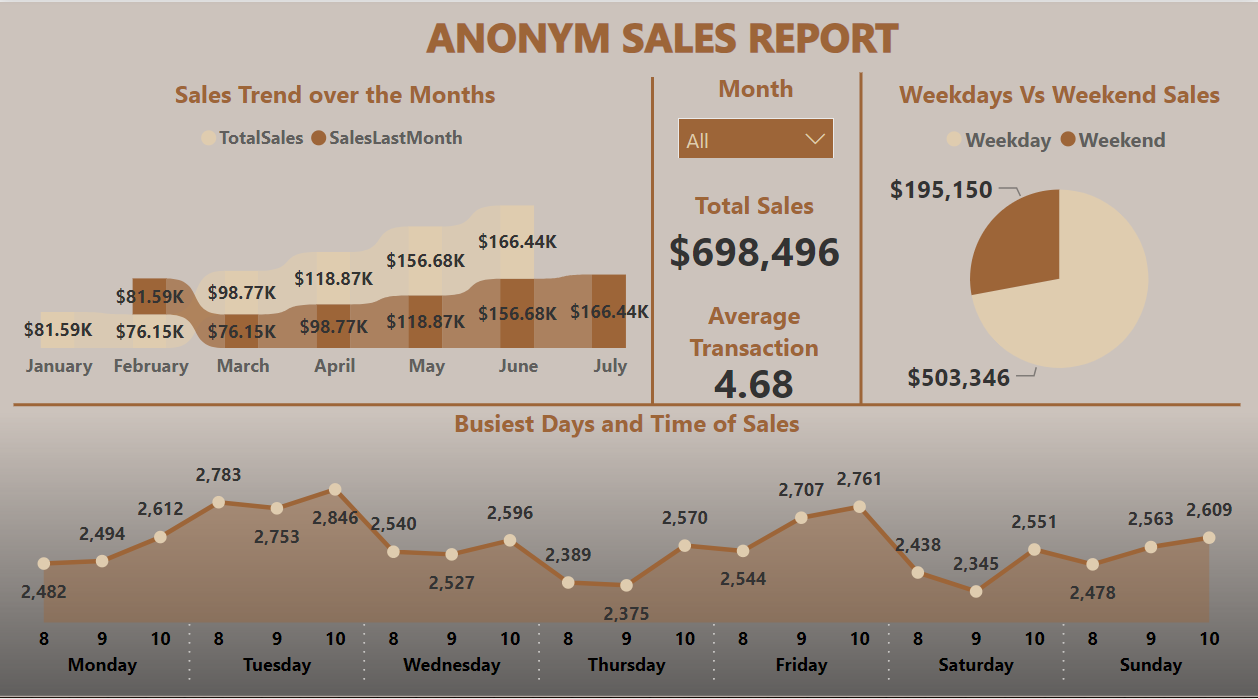

The dashboard page shown, as its layout file describes it:
{"tool":"powerbi","page":{"name":"Report 1","canvas":[841,464],"ordinal":0},"visuals":[{"type":"textbox","box":[99,0,690,58],"z":0},{"type":"ribbonChart","title":"Sales Trend over the Months","fields":{"Category":["Coffee Sales Data.transaction_date.Variation.Date Hierarchy.Month"],"Y":["Dax Measure.TotalSales","Dax Measure.SalesLastMonth"]},"box":[0,50,451,211],"z":1000},{"type":"card","title":"Average Transaction","fields":{"Values":["Dax Measure.Avg Transaction Value per Customer"]},"box":[428,197,154,73],"z":2000},{"type":"shape","box":[431,50,12,219],"z":3000},{"type":"shape","box":[570,47,12,222],"z":4000},{"type":"areaChart","title":"Busiest Days and Time of Sales","fields":{"Category":["Coffee Sales Data.Day Name","Coffee Sales Data.Hour"],"Y":["Dax Measure.TotalTransactions"]},"box":[11,269,818,195],"z":5000},{"type":"shape","box":[11,261,818,15],"z":6000},{"type":"pieChart","title":"Weekdays Vs Weekend Sales","fields":{"Y":["Dax Measure.TotalSales"],"Category":["Coffee Sales Data.Week_Name"]},"box":[576,50,265,219],"z":7000},{"type":"slicer","title":"Month","fields":{"Values":["Coffee Sales Data.Month Name"]},"box":[444,46,124,58],"z":8000},{"type":"card","title":"Total Sales","fields":{"Values":["Dax Measure.TotalSales"]},"box":[428,124,154,64],"z":9000}]}

Visuals, with their boxes in screenshot pixels (x1, y1, x2, y2), scaled from the page's 841x464 canvas onto the 1258x699 screenshot:
textbox: 148/0/1180/87
"Sales Trend over the Months" ribbonChart: 0/75/675/393
"Average Transaction" card: 640/297/871/407
shape: 645/75/663/405
shape: 853/71/871/405
"Busiest Days and Time of Sales" areaChart: 16/405/1240/698
shape: 16/393/1240/416
"Weekdays Vs Weekend Sales" pieChart: 862/75/1257/405
"Month" slicer: 664/69/850/157
"Total Sales" card: 640/187/871/283
